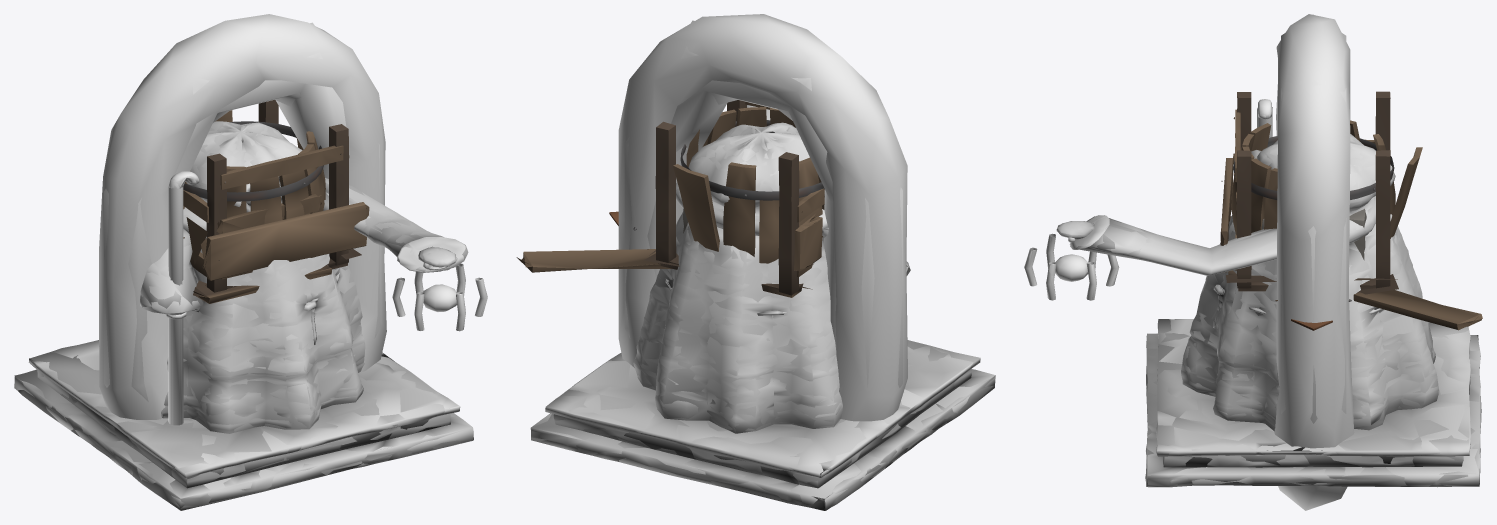
File: ch1_props_v2.glb
3 renders of one model, left to right at view 1: azimuth 30°, elevation 25°; view 2: azimuth 150°, elevation 25°; view 3: azimuth 270°, elevation 25°, orthographic. The views are drawn at different scales.
Visible parts, largest first — view 1: ch1_env_chainlink_lod0, ch1_env_lanternwright_lod0, ch1_env_lanternwright, ch1_sd_crateSmash, ch1_env_chainlink, ch1_sd_crateBroken, ch1_env_lanternwright_iron_lod0, ch1_sd_barrel, ch1_env_lanternwright_iron, ch1_env_lanternwright_glow; view 2: ch1_env_chainlink_lod0, ch1_env_lanternwright_lod0, ch1_env_lanternwright, ch1_sd_barrel, ch1_env_chainlink, ch1_sd_crateBroken, ch1_sd_crateSmash; view 3: ch1_env_lanternwright_lod0, ch1_env_lanternwright, ch1_env_chainlink_lod0, ch1_sd_crateBroken, ch1_sd_barrel, ch1_sd_crateSmash, ch1_env_chainlink, ch1_env_lanternwright_iron_lod0, ch1_env_lanternwright_iron, ch1_env_lanternwright_glow.
Part boxes in pixels (box(x1,y1,x2,y2)): ch1_env_chainlink_lod0: box(99, 14, 386, 419); ch1_env_lanternwright_lod0: box(14, 121, 473, 510); ch1_env_lanternwright: box(14, 121, 473, 509); ch1_sd_crateSmash: box(183, 202, 369, 303); ch1_env_chainlink: box(104, 22, 380, 401); ch1_sd_crateBroken: box(183, 100, 349, 292); ch1_env_lanternwright_iron_lod0: box(166, 171, 487, 425); ch1_sd_barrel: box(183, 110, 325, 223); ch1_env_lanternwright_iron: box(165, 171, 486, 424); ch1_env_lanternwright_glow: box(423, 284, 456, 311); ch1_env_chainlink_lod0: box(618, 14, 907, 421); ch1_env_lanternwright_lod0: box(531, 105, 995, 510); ch1_env_lanternwright: box(530, 106, 995, 510); ch1_sd_barrel: box(673, 107, 824, 263); ch1_env_chainlink: box(624, 20, 902, 387); ch1_sd_crateBroken: box(655, 100, 824, 297); ch1_sd_crateSmash: box(516, 214, 823, 289); ch1_env_lanternwright_lod0: box(1056, 135, 1481, 487); ch1_env_lanternwright: box(1056, 134, 1481, 487); ch1_env_chainlink_lod0: box(1274, 14, 1354, 510); ch1_sd_crateBroken: box(1233, 91, 1390, 291); ch1_sd_barrel: box(1231, 120, 1422, 238); ch1_sd_crateSmash: box(1220, 158, 1482, 330); ch1_env_chainlink: box(1281, 14, 1346, 423); ch1_env_lanternwright_iron_lod0: box(1024, 99, 1272, 300); ch1_env_lanternwright_iron: box(1024, 99, 1272, 300); ch1_env_lanternwright_glow: box(1055, 254, 1088, 281).
Size of what is drawn, in the model's own units: 1.03 by 1.46 by 1.32.
